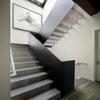stairs: (9, 42, 64, 100)
